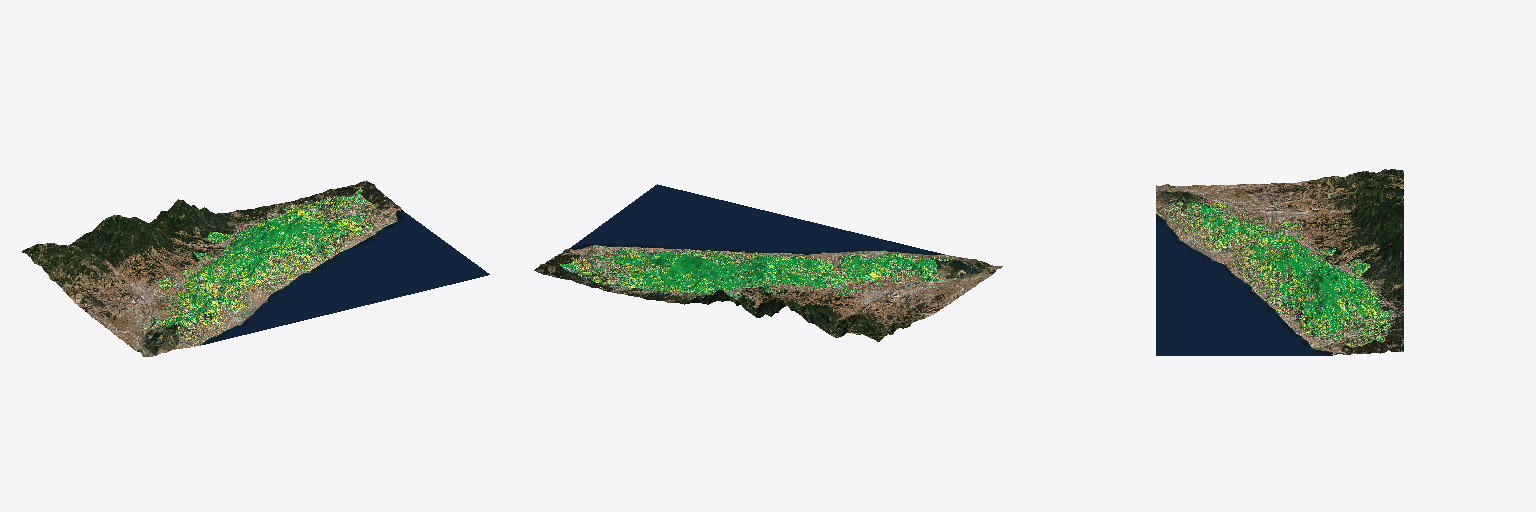
The picture shows the model from 3 angles: view 1: azimuth 30°, elevation 25°; view 2: azimuth 150°, elevation 25°; view 3: azimuth 270°, elevation 25°; orthographic projection.
Parts seen in each view (by area): view 1: maresme_MetElipResi_2; view 2: maresme_MetElipResi_2; view 3: maresme_MetElipResi_2.
Boxes of the visible parts, <box> form: maresme_MetElipResi_2: <box>22,180,489,356</box>; maresme_MetElipResi_2: <box>534,184,1002,341</box>; maresme_MetElipResi_2: <box>1156,169,1403,355</box>.
Size of the model in its own units: 32.15 by 2.81 by 19.95.
Materials: 1 (1 with a texture image).